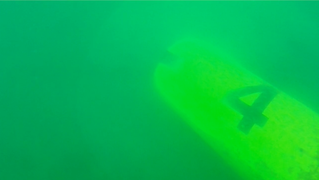4: (224, 83, 278, 134)
pipe: (152, 36, 319, 180)
